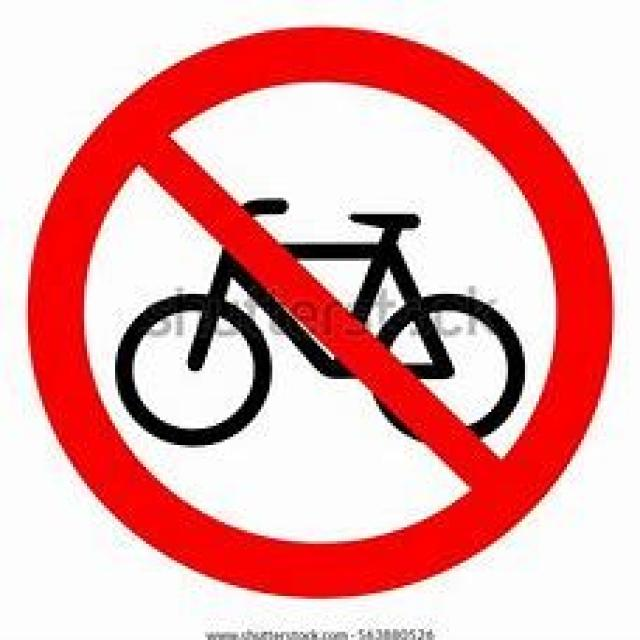cycle_prohibited: (25, 22, 612, 599)
